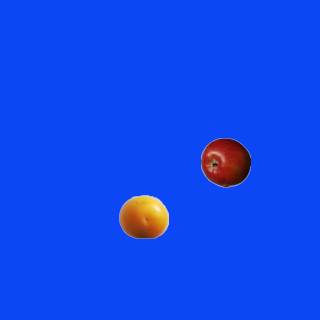Apple Braeburn: (200, 137, 250, 187)
Cherry Wax Yellow: (118, 191, 168, 241)
